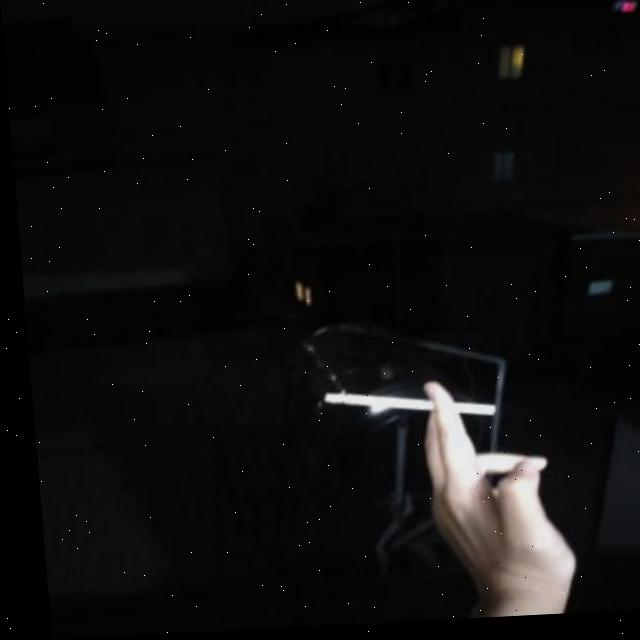cigarette: (316, 389, 490, 429)
